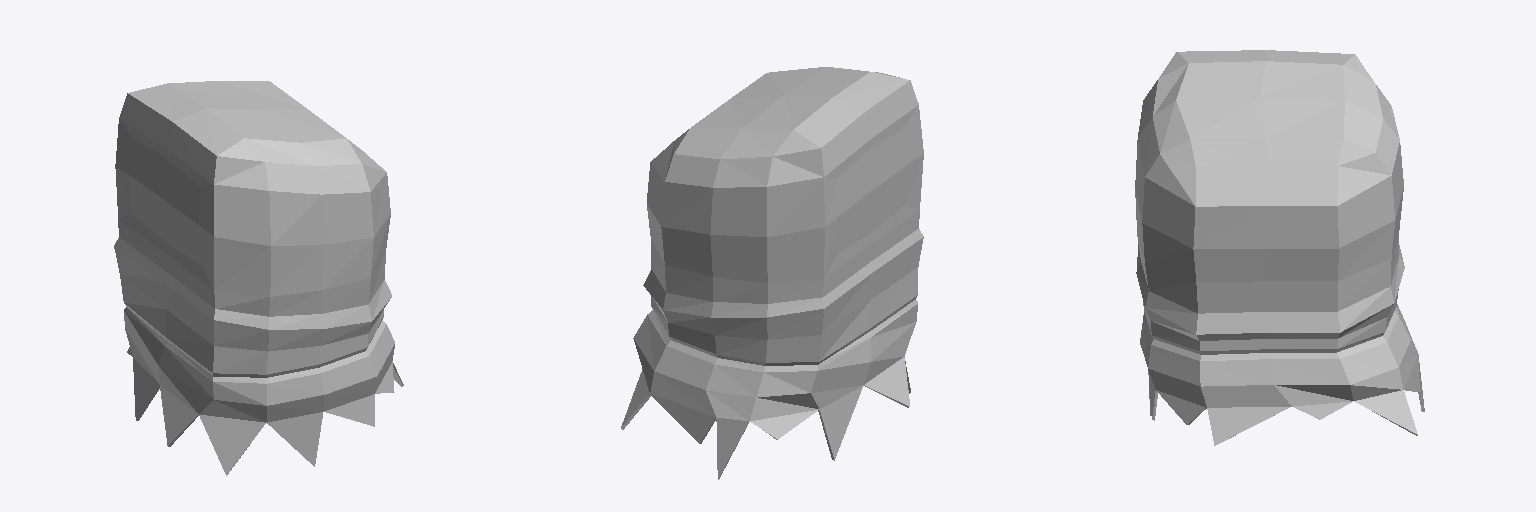
File: sleeve L.obj
3 views of the same model, side by side, from view 1: azimuth 30°, elevation 25°; view 2: azimuth 150°, elevation 25°; view 3: azimuth 270°, elevation 25° (orthographic).
Parts seen in each view (by area): view 1: sleeve_L; view 2: sleeve_L; view 3: sleeve_L.
Part boxes in pixels (bbox=[...]): sleeve_L: bbox=[114, 81, 403, 475]; sleeve_L: bbox=[621, 67, 923, 479]; sleeve_L: bbox=[1135, 50, 1424, 445].
Bounding box in the file's own units: 0.8142 × 1.13 × 0.8853.